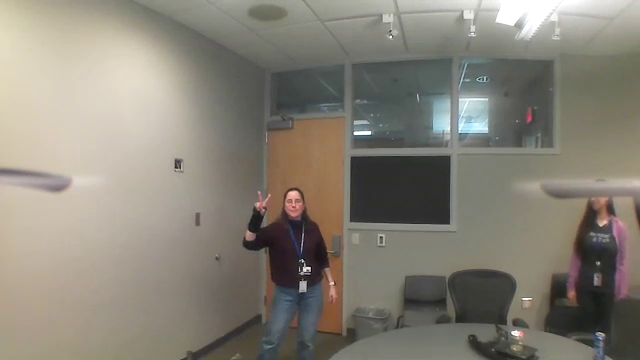peace: (252, 189, 275, 215)
